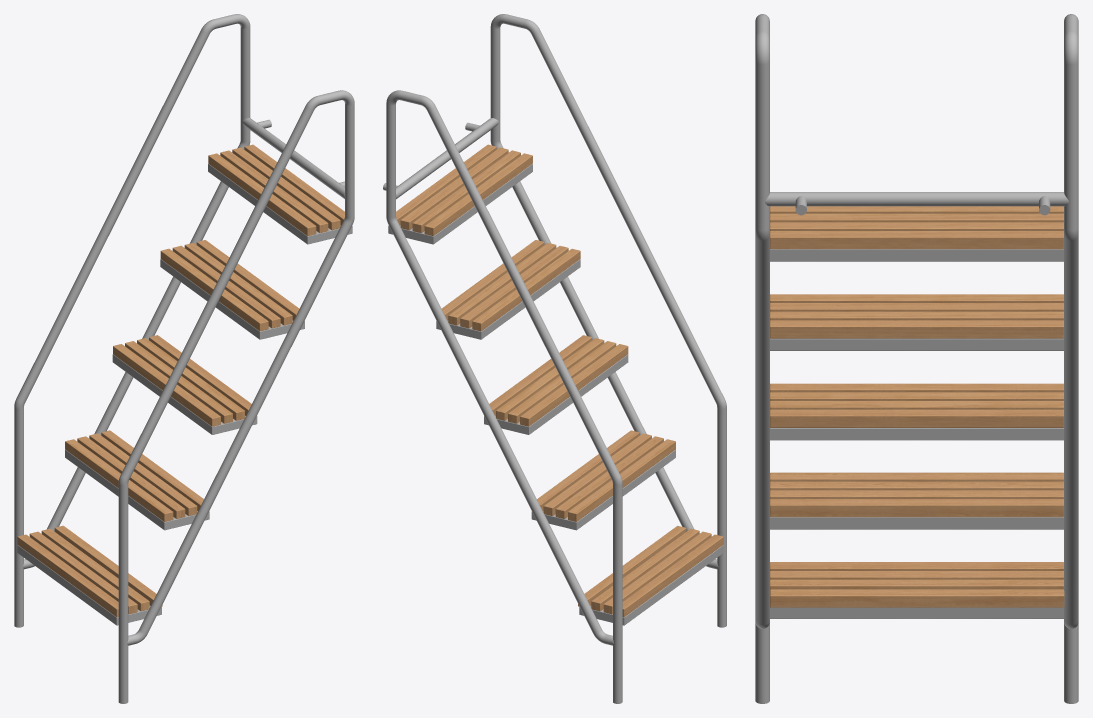
Rendered from staircase.glb.
3 views of the same model, side by side, from view 1: azimuth 30°, elevation 25°; view 2: azimuth 150°, elevation 25°; view 3: azimuth 270°, elevation 25° (orthographic). The views are drawn at different scales.
Parts seen in each view (by area): view 1: Metal_stair, Wood_stair1, Wood_stair4, Wood_stair5, Wood_stair3, Wood_stair2; view 2: Metal_stair, Wood_stair1, Wood_stair3, Wood_stair4, Wood_stair5, Wood_stair2; view 3: Metal_stair, Wood_stair1, Wood_stair2, Wood_stair3, Wood_stair4, Wood_stair5.
Part boxes in pixels (x1,y1,x2,y2): Metal_stair: [14, 14, 354, 703]; Wood_stair1: [17, 525, 162, 617]; Wood_stair4: [160, 240, 299, 331]; Wood_stair5: [208, 144, 344, 235]; Wood_stair3: [113, 335, 251, 426]; Wood_stair2: [65, 430, 203, 521]; Metal_stair: [383, 14, 726, 703]; Wood_stair1: [578, 525, 723, 617]; Wood_stair3: [489, 335, 628, 426]; Wood_stair4: [441, 240, 580, 331]; Wood_stair5: [396, 144, 532, 236]; Wood_stair2: [537, 430, 675, 521]; Metal_stair: [755, 14, 1078, 703]; Wood_stair1: [770, 562, 1064, 607]; Wood_stair2: [770, 472, 1063, 517]; Wood_stair3: [770, 383, 1063, 427]; Wood_stair4: [770, 294, 1063, 338]; Wood_stair5: [770, 206, 1063, 249].
Size of the model in its own units: 0.9285 by 2.01 by 0.7138.
2 materials, 1 textured.
